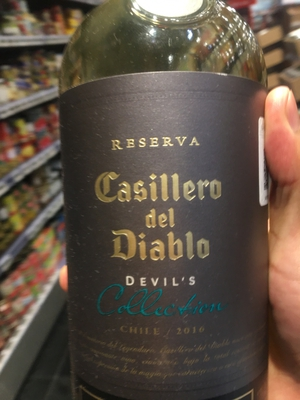casillero del diablo devils collection verde: (46, 18, 275, 400)
